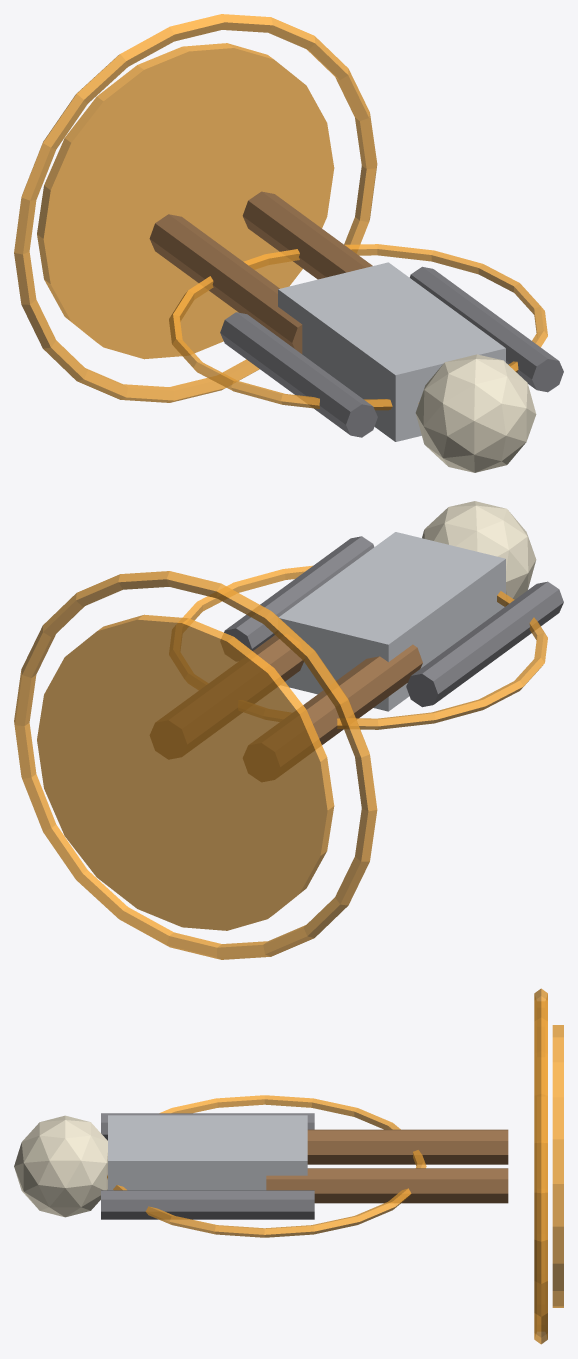
Rendered from biped_run_pose_a.glb.
3 renders of one model, top to bottom at view 1: azimuth 30°, elevation 25°; view 2: azimuth 150°, elevation 25°; view 3: azimuth 270°, elevation 25°, orthographic. The views are drawn at different scales.
Visible parts, largest first — view 1: marker_disc, torso, marker_ring, head, left_leg, motion_arc, left_arm, right_leg, right_arm; view 2: marker_disc, torso, marker_ring, left_leg, right_leg, left_arm, head, right_arm, motion_arc; view 3: torso, right_leg, head, left_leg, right_arm, motion_arc, marker_ring, marker_disc, left_arm.
Boxes of the visible parts, box(x1,y1,x2,y2) form: marker_disc: box(37, 43, 334, 359); torso: box(278, 262, 505, 441); marker_ring: box(14, 14, 377, 402); head: box(415, 354, 536, 472); left_leg: box(149, 214, 302, 353); motion_arc: box(169, 244, 547, 410); left_arm: box(220, 312, 377, 437); right_leg: box(242, 191, 372, 279); right_arm: box(409, 266, 563, 392); marker_disc: box(37, 614, 334, 930); torso: box(278, 532, 505, 711); marker_ring: box(14, 571, 377, 959); left_leg: box(243, 644, 422, 781); right_leg: box(150, 634, 304, 758); left_arm: box(406, 581, 563, 707); head: box(422, 501, 536, 604); right_arm: box(221, 536, 374, 660); motion_arc: box(183, 565, 547, 729); torso: box(108, 1115, 307, 1190); right_leg: box(266, 1168, 508, 1203); head: box(14, 1115, 107, 1217); left_leg: box(307, 1129, 508, 1164); right_arm: box(101, 1190, 314, 1219); motion_arc: box(107, 1095, 426, 1237); marker_ring: box(534, 988, 547, 1344); marker_disc: box(552, 1025, 563, 1307); left_arm: box(101, 1113, 314, 1140).
Size of the model in its own units: 1.25 by 1.24 by 1.93.
